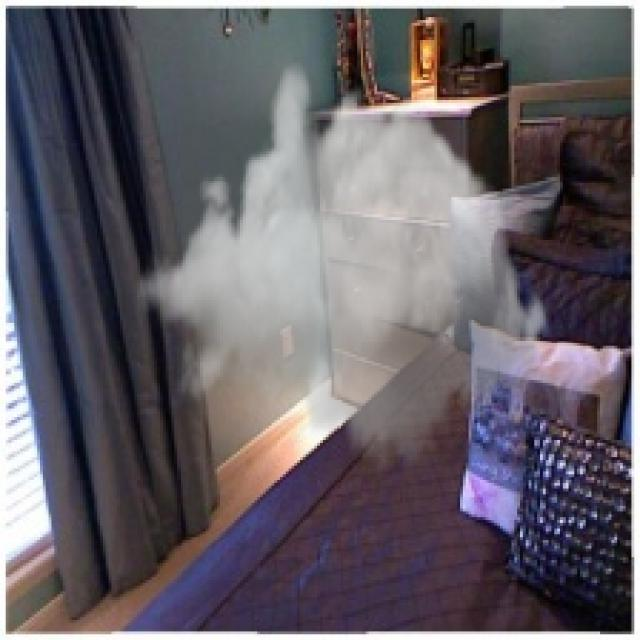Smoke: (134, 57, 552, 477)
